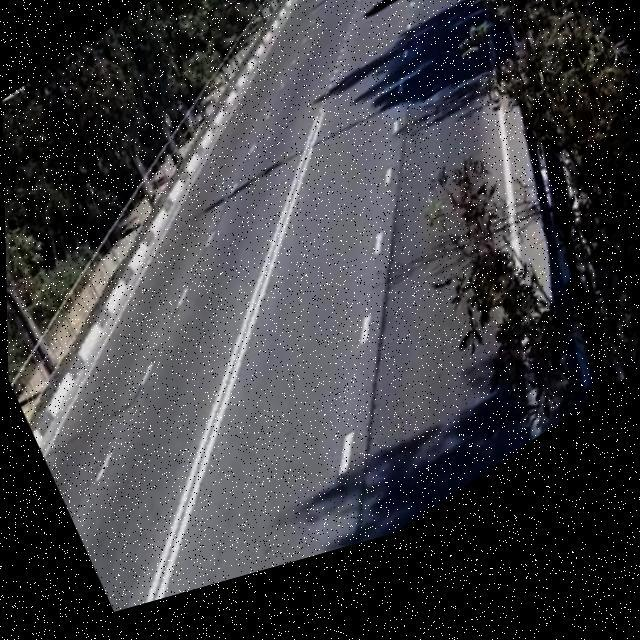Car Accident Detector - v4 Generation1 Exported: (356, 0, 470, 45)
